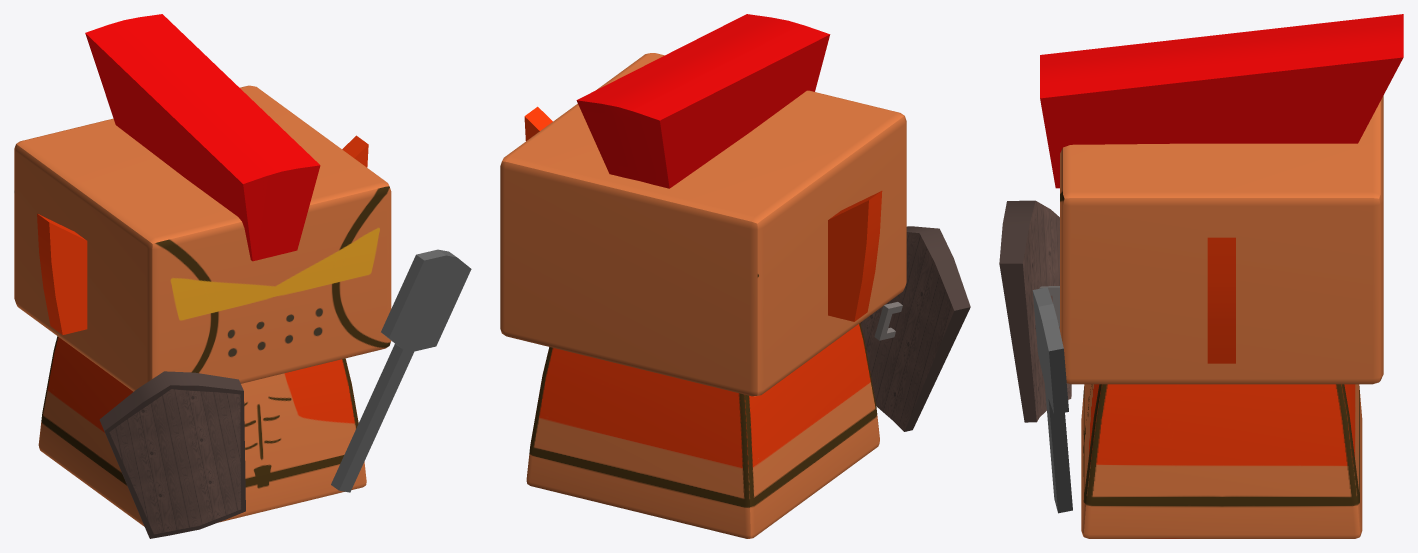
Rendered from Knight_Zombie_WithWeapon.fbx.
3 renders of one model, left to right at view 1: azimuth 30°, elevation 25°; view 2: azimuth 150°, elevation 25°; view 3: azimuth 270°, elevation 25°, orthographic. The views are drawn at different scales.
Parts seen in each view (by area): view 1: KnightZombie, SheildKnight, WeaponKnight; view 2: KnightZombie, SheildKnight; view 3: KnightZombie, SheildKnight, WeaponKnight.
Part boxes in pixels (left/top/right/bottom): KnightZombie: left=14, top=14, right=391, bottom=526; SheildKnight: left=99, top=371, right=245, bottom=538; WeaponKnight: left=331, top=249, right=471, bottom=492; KnightZombie: left=500, top=14, right=906, bottom=538; SheildKnight: left=860, top=226, right=970, bottom=431; KnightZombie: left=1040, top=14, right=1403, bottom=538; SheildKnight: left=999, top=200, right=1071, bottom=422; WeaponKnight: left=1032, top=287, right=1072, bottom=513.
Size of the model in its own units: 3.13 by 3.19 by 2.59.
